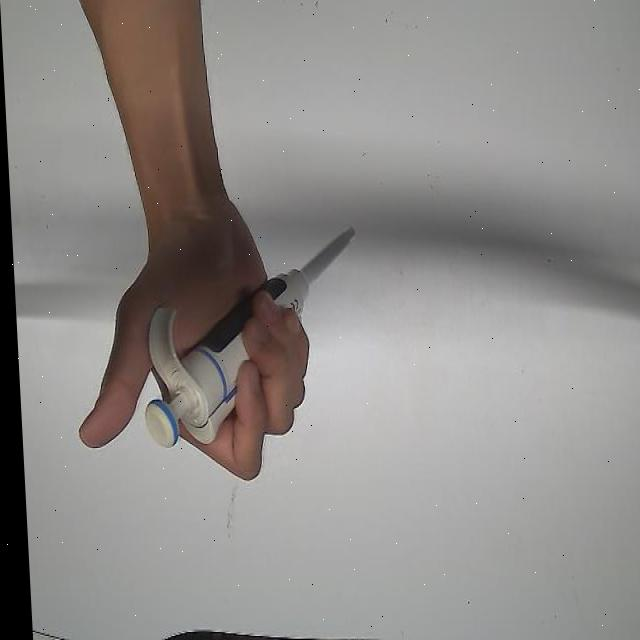Single Channel Pipettor: (131, 224, 367, 451)
